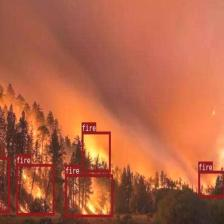fire: (64, 174, 112, 217), (16, 164, 54, 216), (82, 131, 110, 171), (198, 170, 224, 197), (0, 156, 9, 212)
